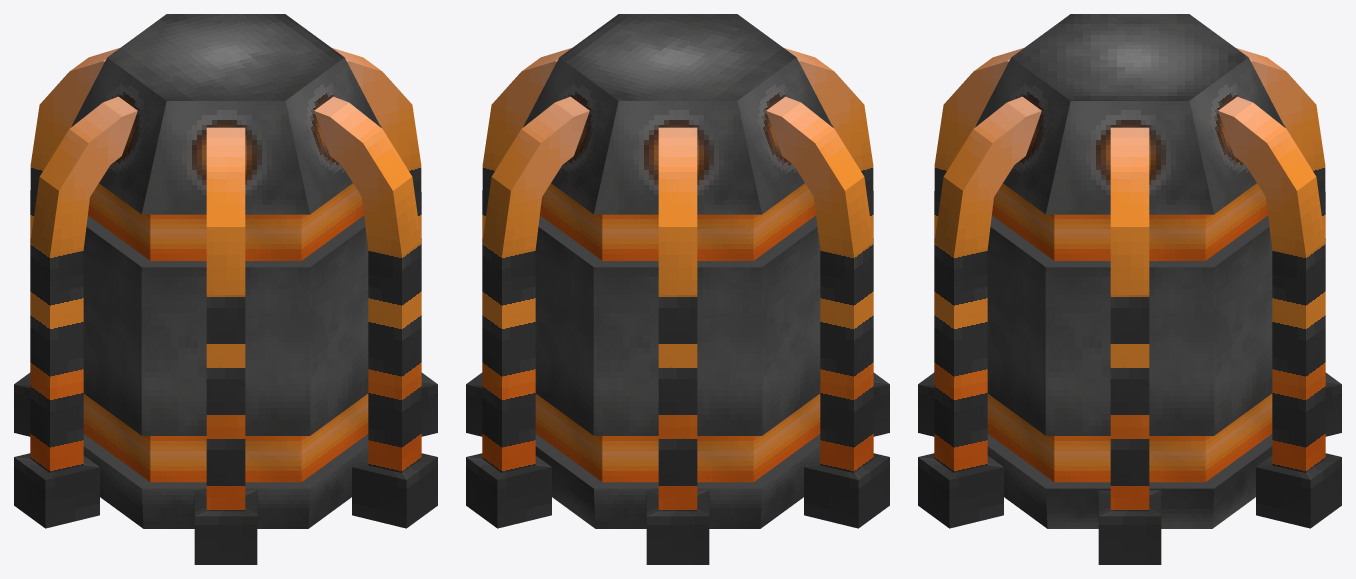
The model's file is generator.glb.
3 renders of one model, left to right at view 1: azimuth 30°, elevation 25°; view 2: azimuth 150°, elevation 25°; view 3: azimuth 270°, elevation 25°, orthographic.
Parts seen in each view (by area): view 1: Cylinder.001, Cube; view 2: Cylinder.001, Cube; view 3: Cylinder.001, Cube.
Boxes of the visible parts, x1,y1,x2,y2 form: Cylinder.001: (71, 14, 380, 528); Cube: (14, 48, 437, 564); Cylinder.001: (523, 14, 832, 528); Cube: (466, 48, 889, 564); Cylinder.001: (975, 14, 1284, 528); Cube: (918, 48, 1341, 564).
Size of the model in its own units: 3 by 3 by 2.8.
1 material, 1 textured.
